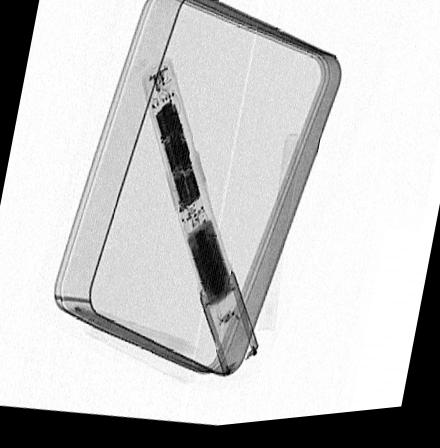Baton: (138, 60, 258, 383)
